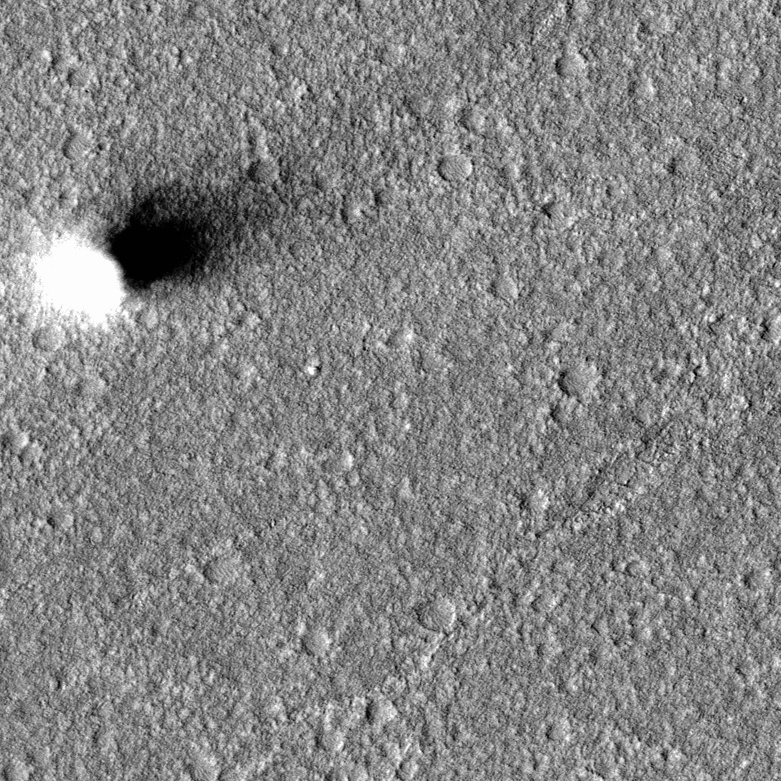dust_devil: (28, 160, 314, 328)
